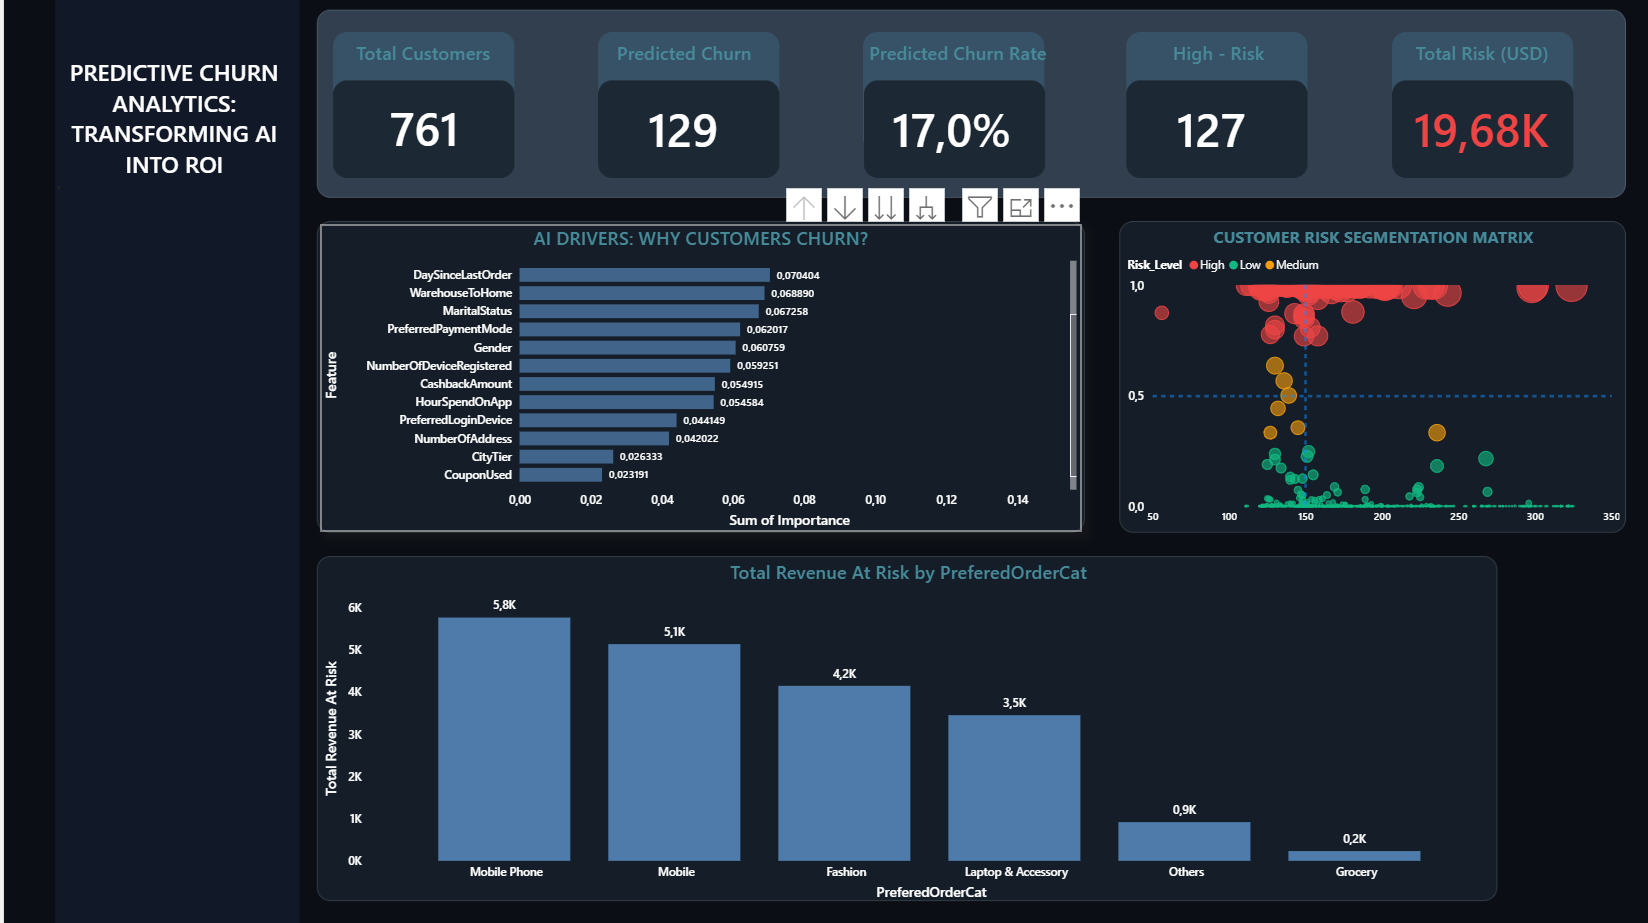

The page's visual inventory and layout, read from the dashboard file:
{"tool":"powerbi","page":{"name":"OVERVIEW","canvas":[1920,1080],"ordinal":0},"visuals":[{"type":"card","fields":{"Values":["_Metric.Total Customers"]},"box":[382.4,62.6,208.6,172.1],"z":0},{"type":"textbox","box":[335.5,43.5,300.7,299],"z":1000},{"type":"card","fields":{"Values":["_Metric.Predicted Churners"]},"box":[636.1,0,300.7,299],"z":2000},{"type":"textbox","box":[637.9,43.5,300.7,50.4],"z":3000},{"type":"card","fields":{"Values":["_Metric.Predicted Churn Rate"]},"box":[947.3,0,300.7,299],"z":4000},{"type":"card","fields":{"Values":["_Metric.Avg Revenue At Risk"]},"box":[1248,0,300.7,299],"z":5000},{"type":"card","fields":{"Values":["_Metric.Total Revenue At Risk"]},"box":[1560.8,0,300.7,299],"z":6000},{"type":"textbox","box":[997.7,43.5,234.6,50.4],"z":7000},{"type":"textbox","box":[1260.1,43.5,300.7,50.4],"z":8000},{"type":"textbox","box":[1562.5,43.5,300.7,50.4],"z":9000},{"type":"clusteredColumnChart","fields":{"Category":["Dim_Behavior.PreferedOrderCat"],"Y":["_Metric.Total Revenue At Risk"]},"box":[366.7,650,1362.7,399.8],"z":10000},{"type":"textbox","box":[46.9,62.6,300.7,187.7],"z":11000},{"type":"clusteredBarChart","title":"AI DRIVERS: WHY CUSTOMERS CHURN?","fields":{"Category":["tabnet_feature_importance.Feature","Dim_Customer.CityTier"],"Y":["Sum(tabnet_feature_importance.Importance)"]},"box":[366.7,262.5,881.2,356.3],"z":12000},{"type":"scatterChart","title":"CUSTOMER RISK SEGMENTATION MATRIX","fields":{"Category":["Fact_Churn.CustomerID"],"Y":["Avg(Fact_Churn.Predicted_Prob)"],"Size":["Sum(Fact_Churn.Revenue_At_Risk)"],"Series":["Fact_Churn.Risk_Level"],"X":["Sum(Fact_Churn.CashbackAmount)"]},"box":[1296.6,264.2,580.5,354.6],"z":13000}]}

Visuals, with their boxes in screenshot pixels (x1, y1, x2, y2), scaled from the page's 1920x1080 canvas onto the 1648x923 screenshot:
card - _Metric.Total Customers: bbox(328, 53, 507, 201)
textbox: bbox(288, 37, 546, 293)
card - _Metric.Predicted Churners: bbox(546, 0, 804, 256)
textbox: bbox(548, 37, 806, 80)
card - _Metric.Predicted Churn Rate: bbox(813, 0, 1071, 256)
card - _Metric.Avg Revenue At Risk: bbox(1071, 0, 1329, 256)
card - _Metric.Total Revenue At Risk: bbox(1340, 0, 1598, 256)
textbox: bbox(856, 37, 1058, 80)
textbox: bbox(1082, 37, 1340, 80)
textbox: bbox(1341, 37, 1599, 80)
clusteredColumnChart - Dim_Behavior.PreferedOrderCat x _Metric.Total Revenue At Risk: bbox(315, 556, 1484, 897)
textbox: bbox(40, 53, 298, 214)
"AI DRIVERS: WHY CUSTOMERS CHURN?" clusteredBarChart: bbox(315, 224, 1071, 529)
"CUSTOMER RISK SEGMENTATION MATRIX" scatterChart: bbox(1113, 226, 1611, 529)
